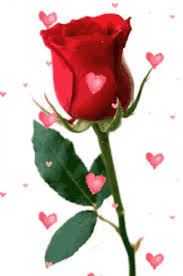lale: (34, 7, 166, 276)
